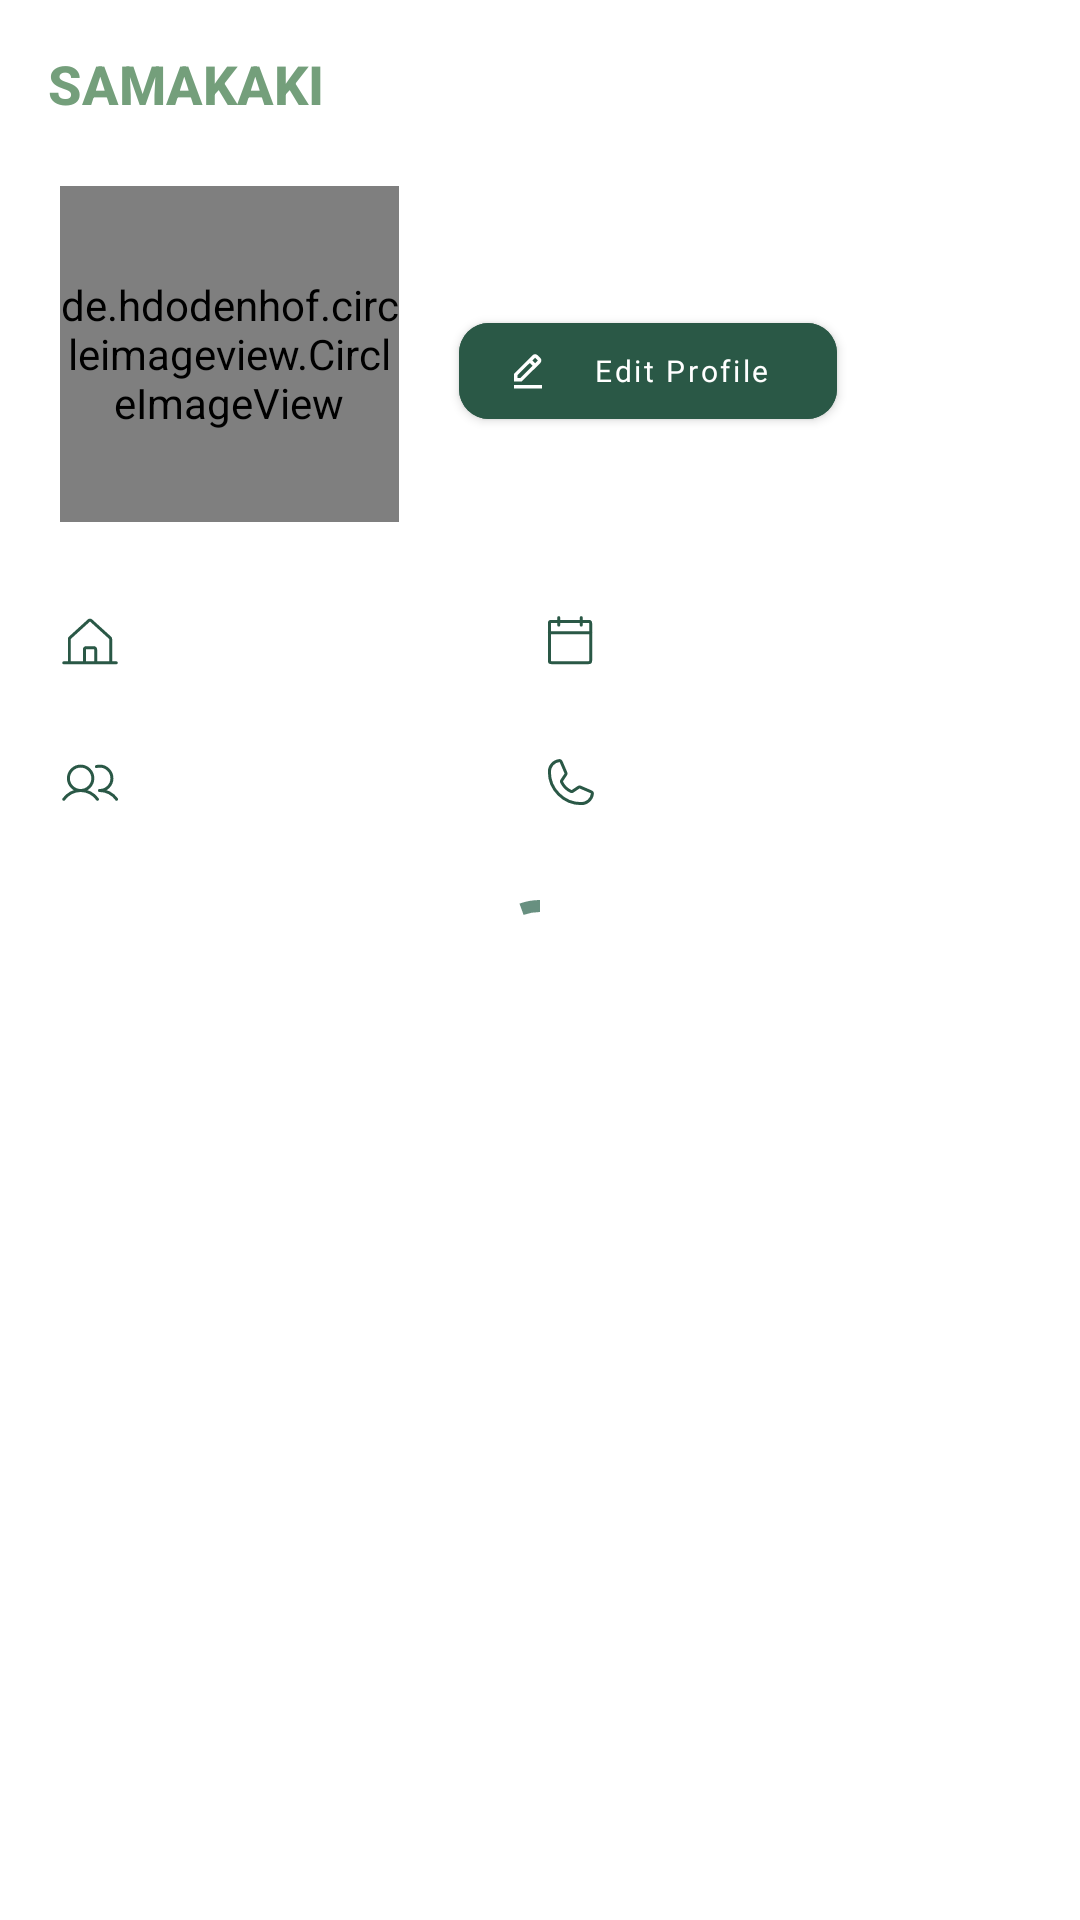

Icons on this 1080x1920 Android screen, each with its box as (x1, y1, x2, y2):
calender: (548, 616, 593, 665)
house: (62, 618, 118, 665)
phone: (548, 759, 594, 805)
users: (62, 764, 118, 801)
